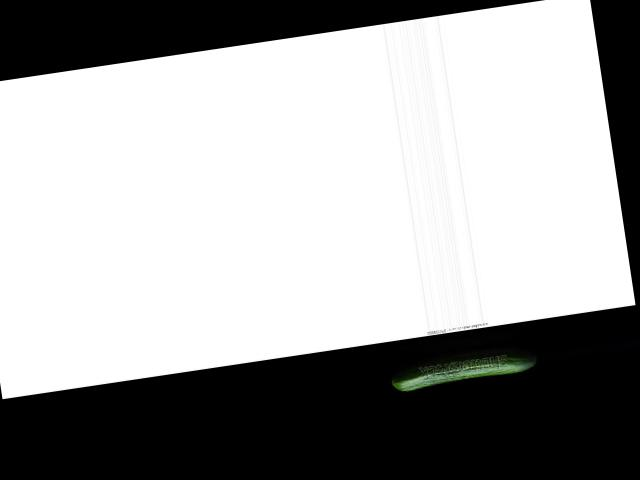cucumber: (388, 349, 537, 392)
